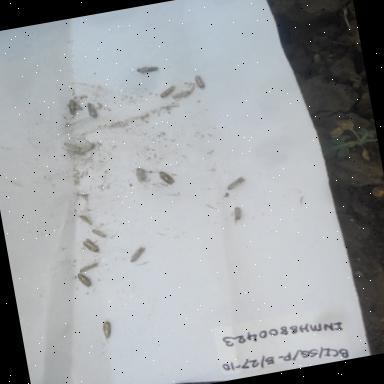pbw: (59, 269, 108, 295), (210, 172, 254, 198), (85, 314, 122, 342), (53, 92, 86, 123), (218, 201, 254, 227), (126, 162, 156, 190), (120, 242, 152, 267), (128, 60, 166, 80), (189, 69, 215, 97), (149, 82, 180, 103), (58, 133, 84, 155), (166, 90, 201, 106), (154, 168, 178, 188), (74, 260, 102, 276), (81, 236, 102, 257), (81, 100, 101, 122), (72, 142, 98, 158), (100, 319, 116, 344), (230, 206, 246, 228), (77, 210, 95, 228), (90, 225, 110, 241)
